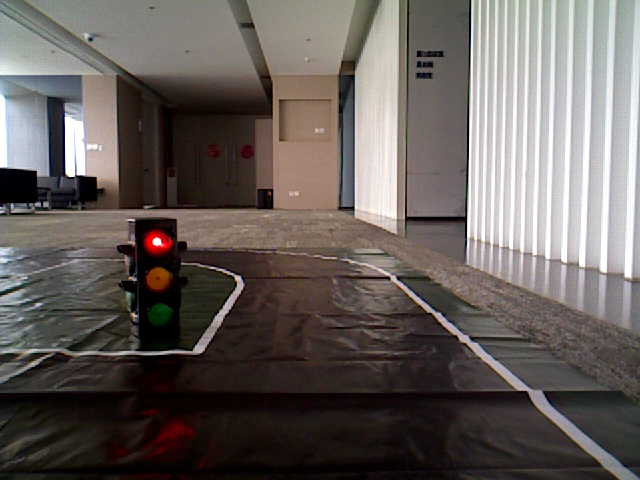red: (130, 224, 180, 331)
